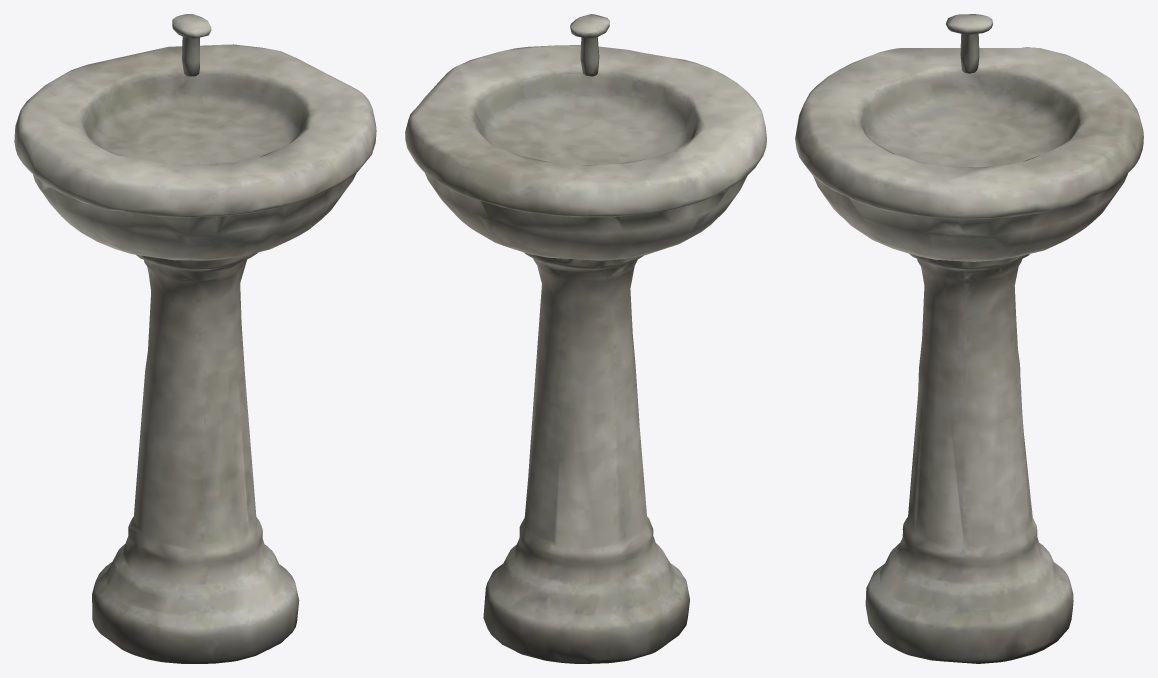
The model's file is rustic-white-painted-washbasin-v001.glb.
3 renders of one model, left to right at view 1: azimuth 30°, elevation 25°; view 2: azimuth 150°, elevation 25°; view 3: azimuth 270°, elevation 25°, orthographic.
Visible parts, largest first — view 1: rustic-white-painted-washbasin; view 2: rustic-white-painted-washbasin; view 3: rustic-white-painted-washbasin.
Boxes of the visible parts, x1,y1,x2,y2 form: rustic-white-painted-washbasin: (14, 14, 376, 663); rustic-white-painted-washbasin: (405, 14, 766, 663); rustic-white-painted-washbasin: (795, 14, 1143, 663).
Bounding box in the file's own units: 0.5248 × 0.9684 × 0.5085.
Materials: 1 (1 with a texture image).
